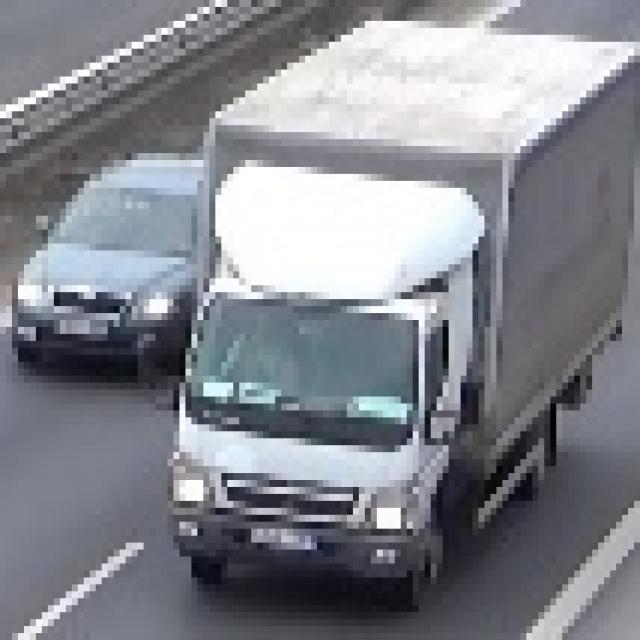truck: (162, 7, 634, 606)
